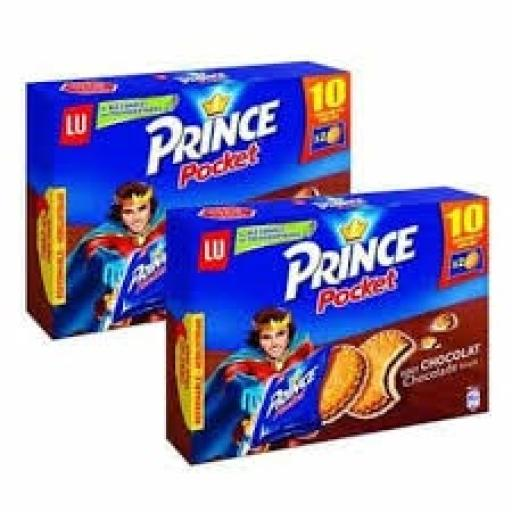prince: (224, 209, 490, 327)
